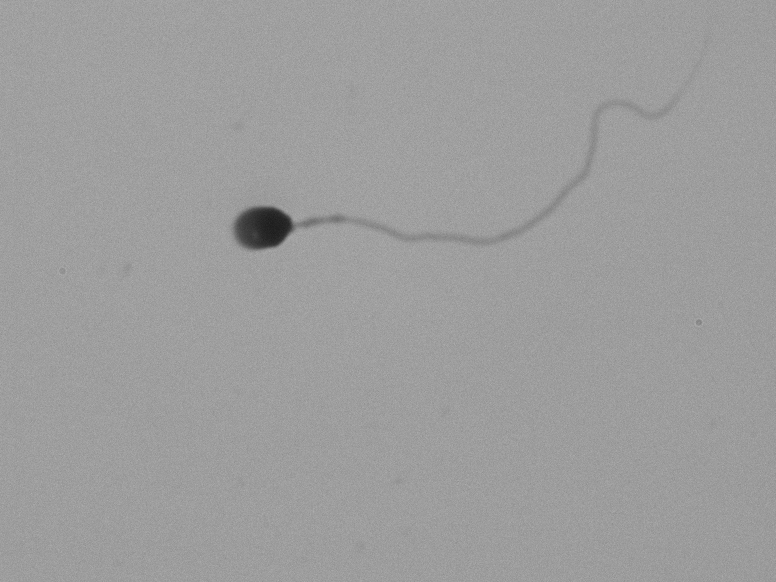Normal: (161, 66, 676, 300)
